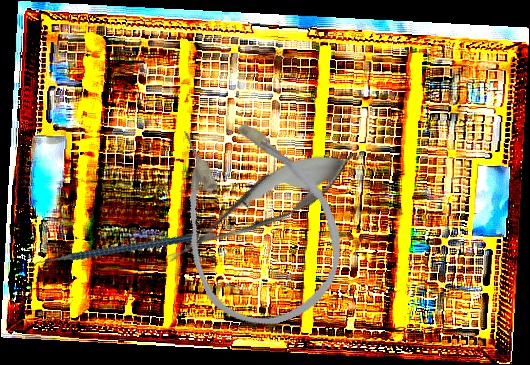Cannula: (149, 92, 362, 344)
Chopper: (28, 205, 199, 304)
Micro Scissor: (153, 132, 364, 284)
